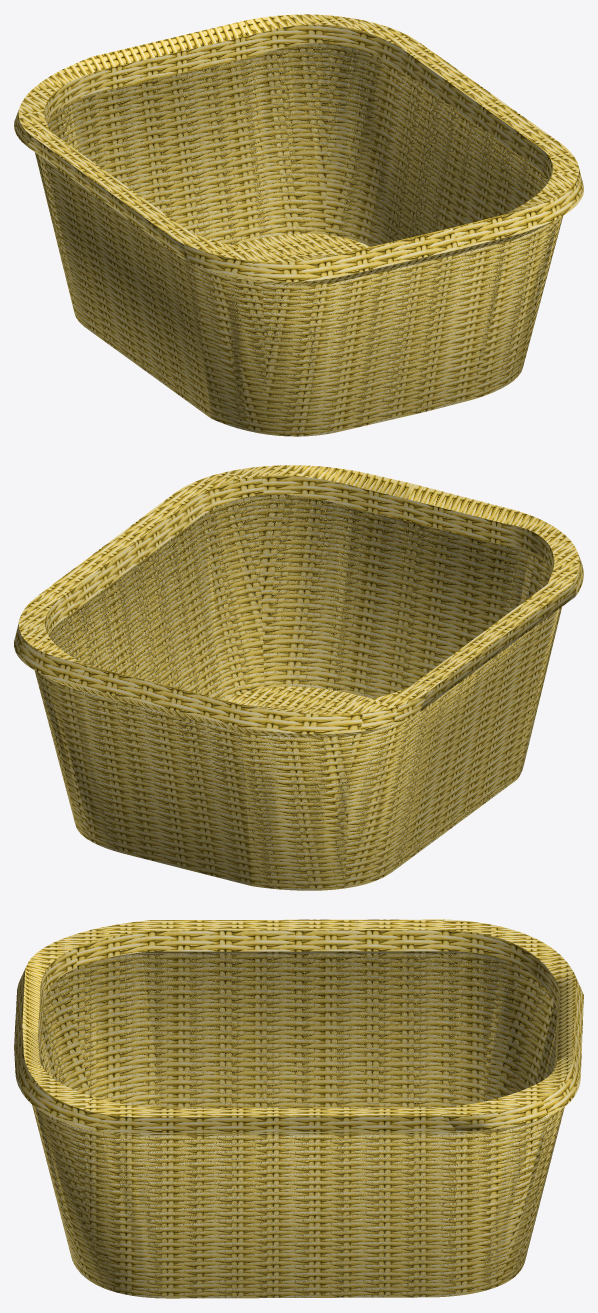
Rendered from laundryBasket.fbx.
3 views of the same model, one above another, from view 1: azimuth 30°, elevation 25°; view 2: azimuth 150°, elevation 25°; view 3: azimuth 270°, elevation 25° (orthographic). The views are drawn at different scales.
Visible parts, largest first — view 1: Laundry_Basket; view 2: Laundry_Basket; view 3: Laundry_Basket.
Part boxes in pixels (x1,y1,x2,y2): Laundry_Basket: [14, 14, 583, 436]; Laundry_Basket: [14, 465, 583, 890]; Laundry_Basket: [14, 919, 583, 1298].
Bounding box in the file's own units: 61.88 × 30.35 × 75.39.
Materials: 1 (1 with a texture image).
